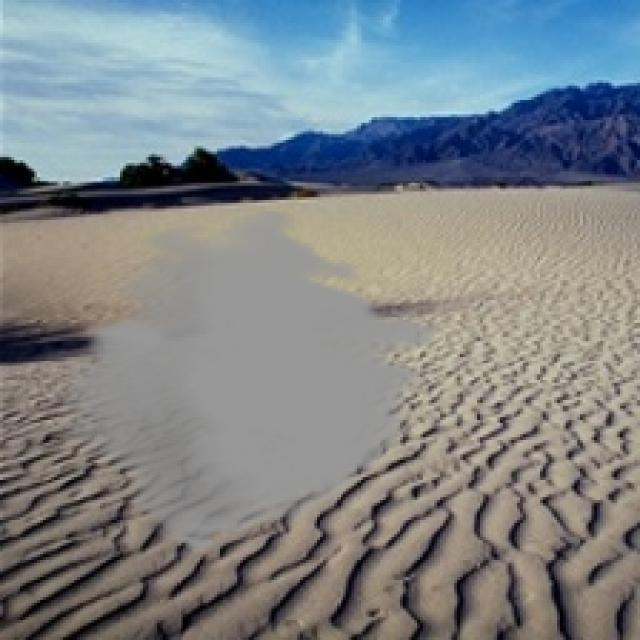Smoke: (62, 208, 434, 552)
